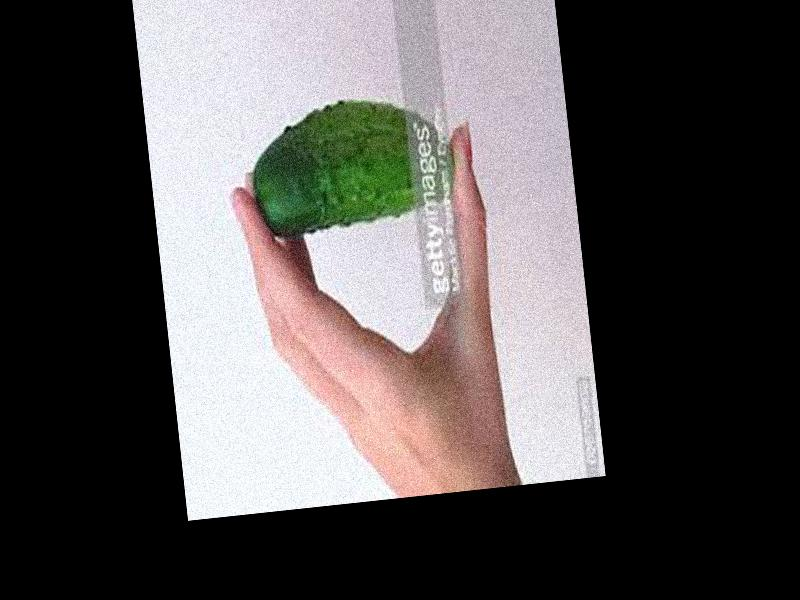Cucumber: (245, 89, 460, 238)
